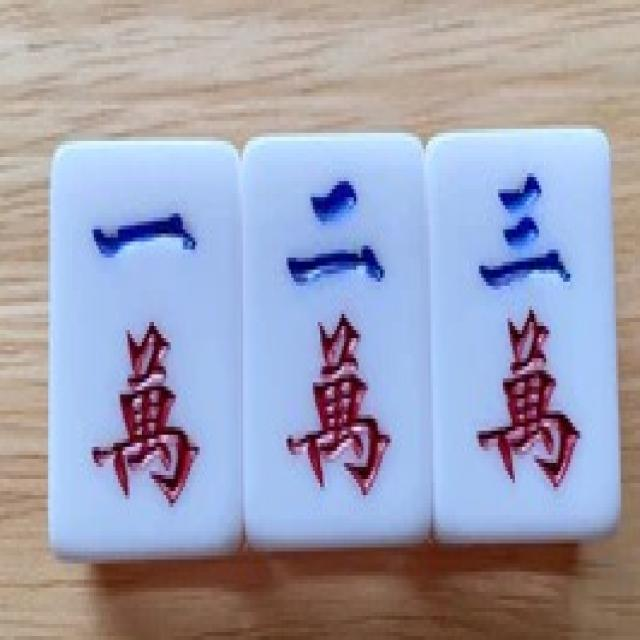1C: (57, 152, 235, 539)
2C: (249, 148, 425, 536)
3C: (431, 145, 608, 525)
